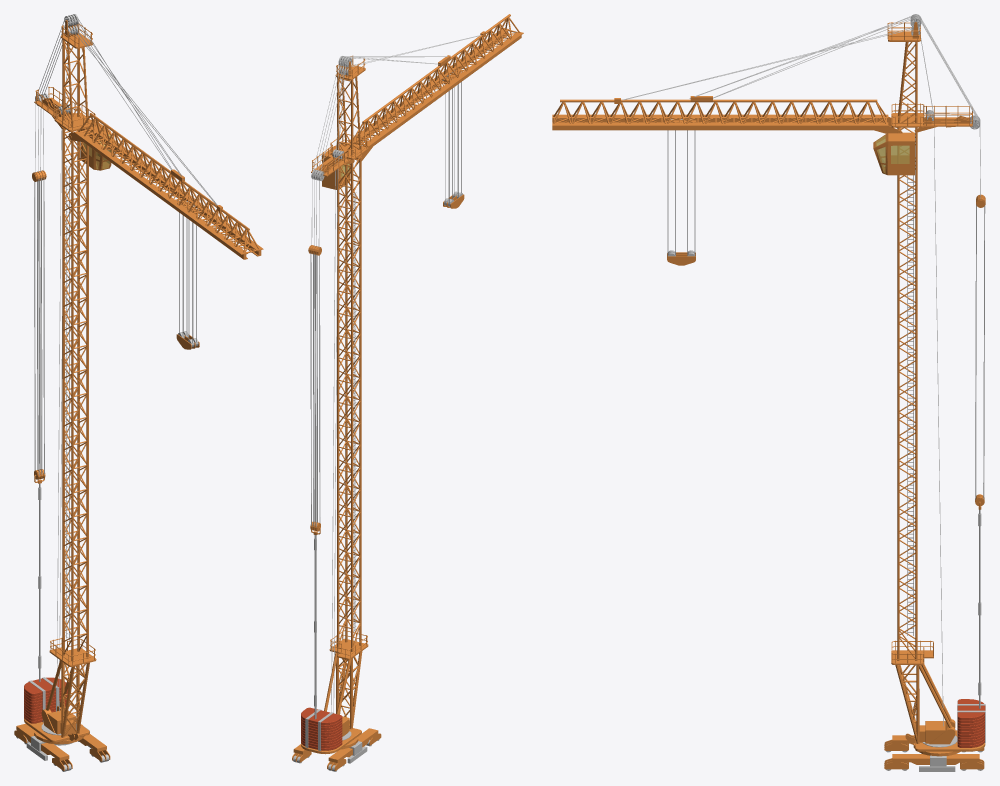
The model's file is crane.obj.
3 renders of one model, left to right at view 1: azimuth 30°, elevation 25°; view 2: azimuth 150°, elevation 25°; view 3: azimuth 270°, elevation 25°, orthographic. The views are drawn at different scales.
Visible parts, largest first — view 1: Box04; view 2: Box04; view 3: Box04.
Boxes of the visible parts, x1,y1,x2,y2 form: Box04: [14, 14, 263, 771]; Box04: [292, 14, 523, 771]; Box04: [552, 14, 985, 771].
Size of the model in its own units: 3665 by 50914 by 26894.
